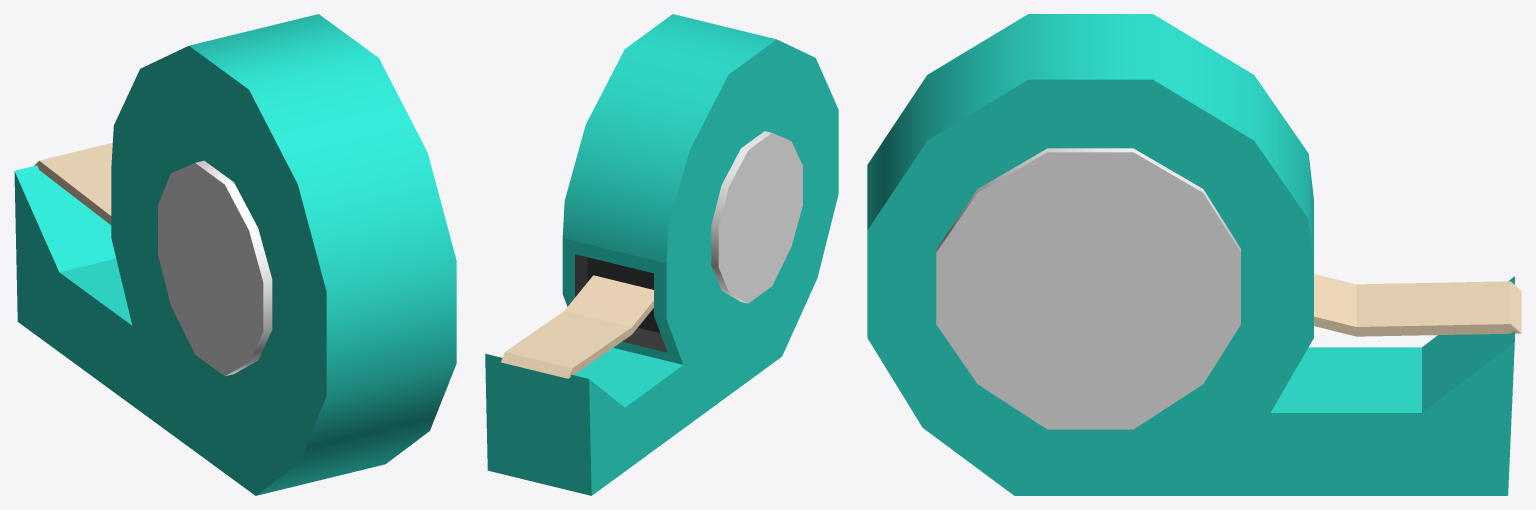
The model's file is Tape.fbx.
3 renders of one model, left to right at view 1: azimuth 30°, elevation 25°; view 2: azimuth 150°, elevation 25°; view 3: azimuth 270°, elevation 25°, orthographic. The views are drawn at different scales.
Parts seen in each view (by area): view 1: Tape; view 2: Tape; view 3: Tape.
Boxes of the visible parts, x1,y1,x2,y2 form: Tape: [14, 14, 456, 495]; Tape: [485, 14, 838, 495]; Tape: [867, 14, 1521, 495].
Size of the model in its own units: 4.66 by 12.19 by 17.36.
